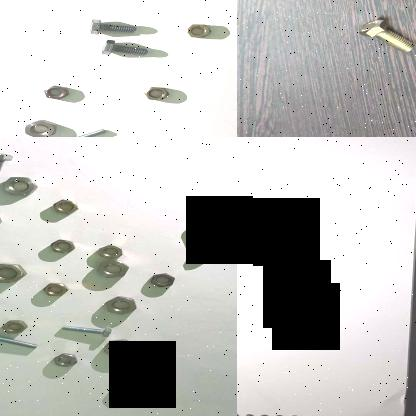Bolts: (356, 17, 416, 52), (81, 13, 144, 38), (102, 36, 158, 64), (186, 220, 228, 250), (0, 332, 41, 349), (62, 324, 120, 336), (58, 125, 110, 137), (0, 147, 13, 181)
NUTS: (22, 116, 64, 137), (2, 174, 38, 196), (103, 338, 138, 360), (134, 80, 166, 104), (102, 295, 140, 315), (93, 258, 130, 278), (41, 82, 73, 102), (0, 261, 27, 283), (186, 22, 218, 40), (148, 272, 180, 290), (0, 317, 32, 334), (110, 378, 140, 396), (42, 280, 70, 298), (52, 198, 78, 216), (50, 352, 81, 366), (96, 244, 126, 258), (50, 239, 76, 251), (156, 131, 195, 137)
